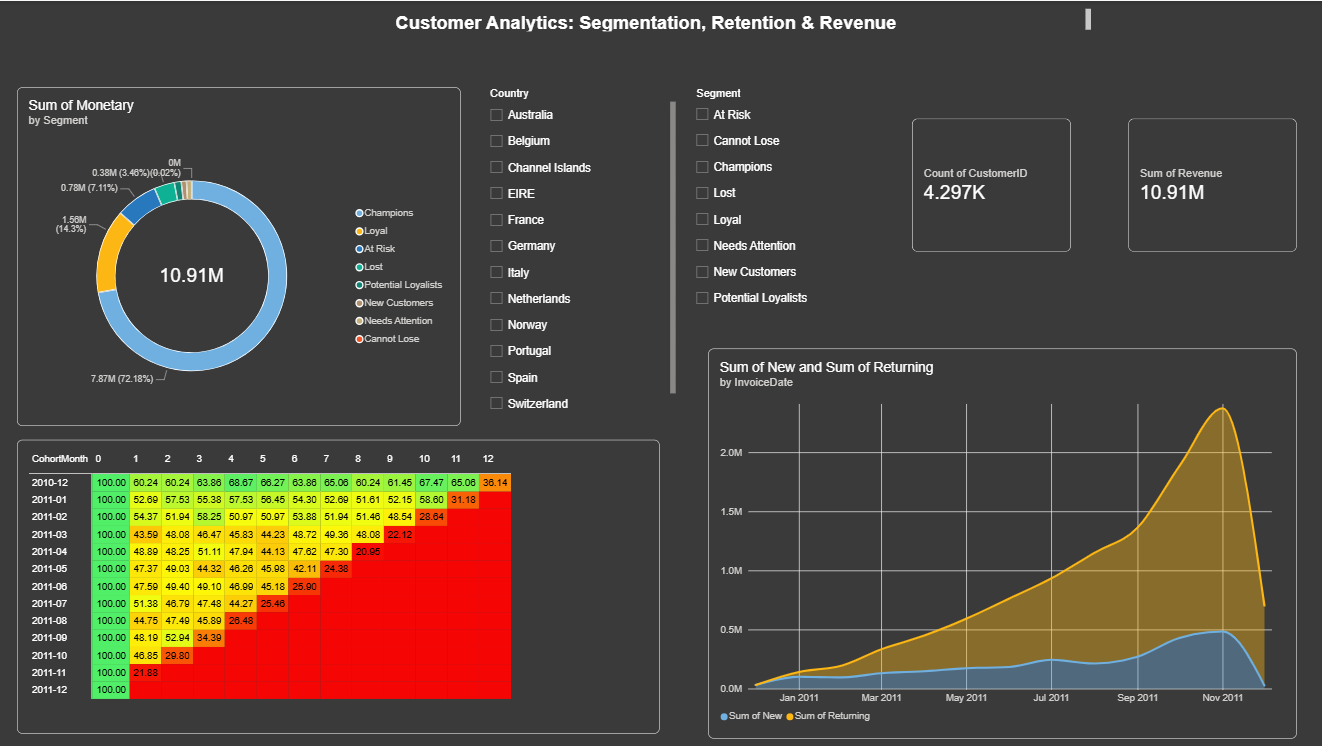

Layout of this report page (visuals, bound fields, positions):
{"tool":"powerbi","page":{"name":"Page 1","canvas":[1920,1080],"ordinal":0},"visuals":[{"type":"donutChart","fields":{"Category":["rfm_segments.Segment"],"Y":["Sum(rfm_segments.Monetary)"]},"box":[29,124.9,642.4,490.4],"z":0},{"type":"pivotTable","fields":{"Columns":["cohort_retention.MonthsSinceFirst"],"Rows":["cohort_retention.CohortMonth"],"Values":["Sum(cohort_retention.RetentionRate)"]},"box":[29,635.2,930.2,425.3],"z":1},{"type":"stackedAreaChart","fields":{"Category":["monthly_revenue_by_type.InvoiceDate"],"Y":["Sum(monthly_revenue_by_type.New)","Sum(monthly_revenue_by_type.Returning)"]},"box":[1029.7,503.1,852.4,564.6],"z":2},{"type":"cardVisual","fields":{"Data":["Count(rfm_segments.CustomerID)"]},"box":[1324.7,170.1,230.5,193.5],"z":3},{"type":"cardVisual","fields":{"Data":["Sum(online_retail_clean.Revenue)"]},"box":[1637.7,170.1,244.9,193.5],"z":4},{"type":"slicer","fields":{"Values":["rfm_segments.Segment"]},"box":[1004.4,124.9,275.1,378.2],"z":5},{"type":"slicer","fields":{"Values":["online_retail_clean.Country"]},"box":[705.8,124.9,276.9,477.8],"z":6},{"type":"textbox","box":[317.5,0,1281.3,97.5],"z":7}]}

Visuals, with their boxes in screenshot pixels (x1, y1, x2, y2), scaled from the page's 1920x1080 canvas onto the 1322x746 screenshot:
donutChart - rfm_segments.Segment x Sum(rfm_segments.Monetary): <box>20,86,462,425</box>
pivotTable - cohort_retention.MonthsSinceFirst x cohort_retention.CohortMonth: <box>20,439,660,733</box>
stackedAreaChart - monthly_revenue_by_type.InvoiceDate x Sum(monthly_revenue_by_type.New): <box>709,348,1296,738</box>
cardVisual - Count(rfm_segments.CustomerID): <box>912,117,1071,251</box>
cardVisual - Sum(online_retail_clean.Revenue): <box>1128,117,1296,251</box>
slicer - rfm_segments.Segment: <box>692,86,881,348</box>
slicer - online_retail_clean.Country: <box>486,86,677,416</box>
textbox: <box>219,0,1101,67</box>
